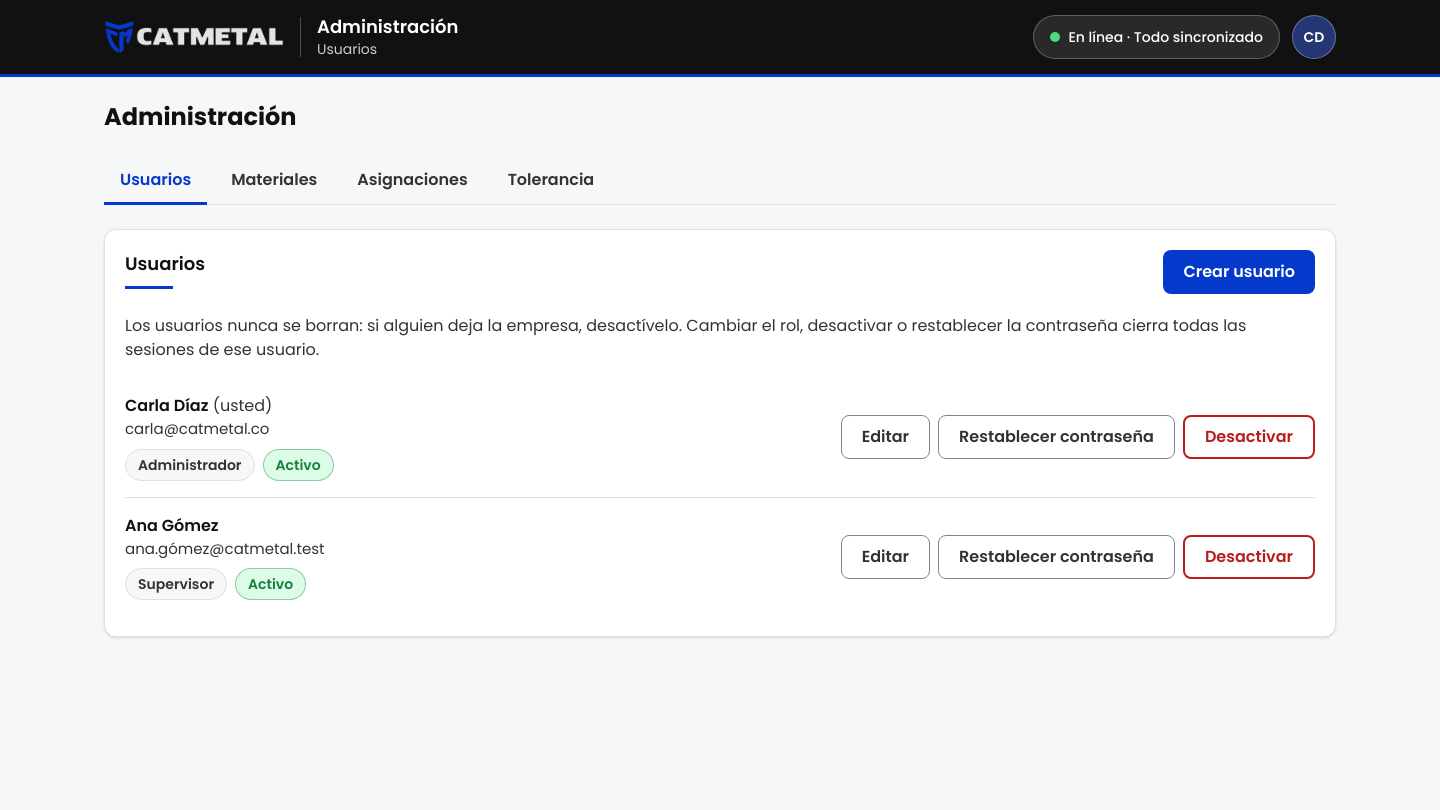
it: Administración · usuarios › desactivar pide confirmación, avisa que cierra sus sesiones y se puede cancelar
The image size is (1440, 810).
Step 1. Click the button with aria-label "Desactivar a Ana Gómez" → click(1249, 557), box [1183,535,1315,579]
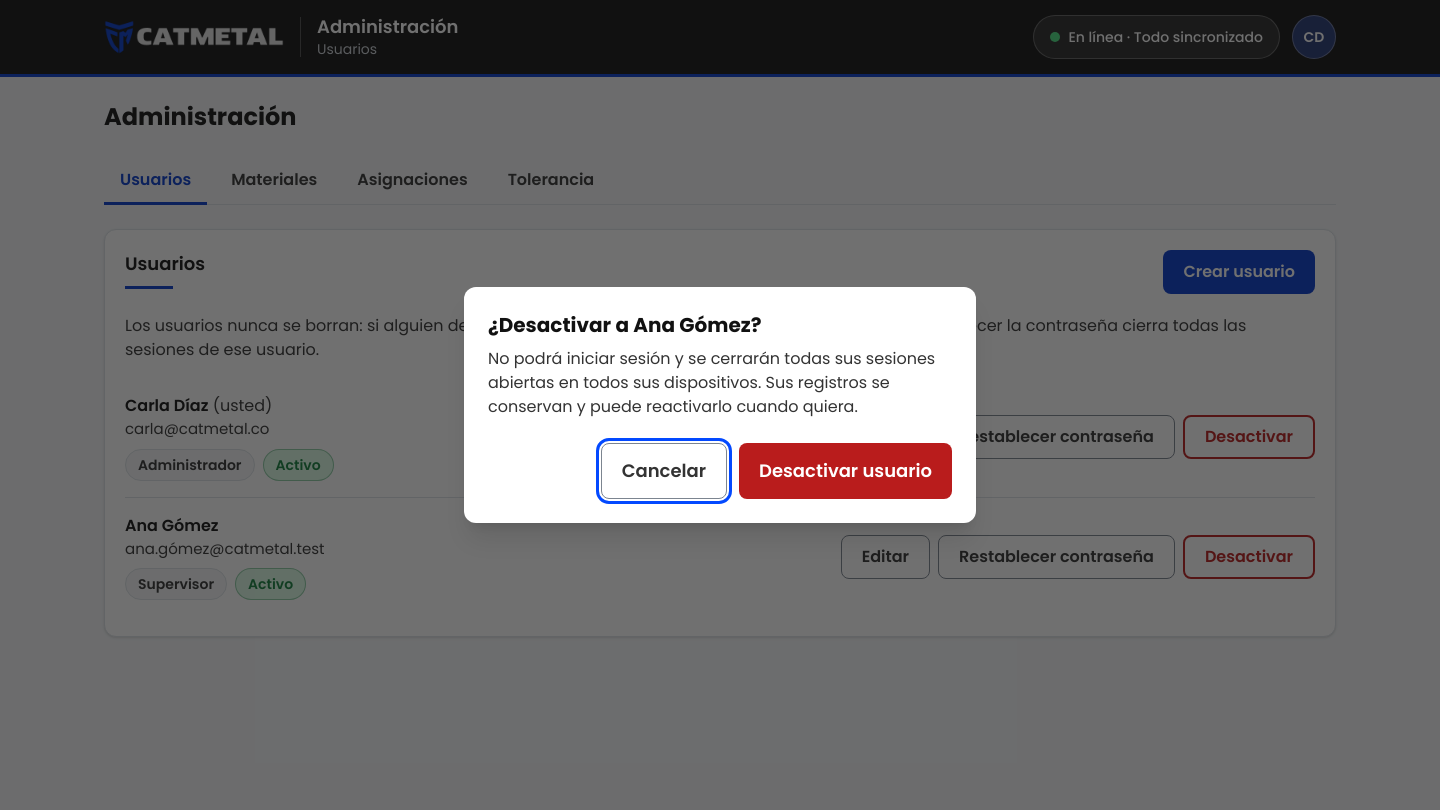
Result: the dialog "¿Desactivar a Ana Gómez?" shows "se cerrarán todas sus sesiones abiertas" at [488,347,935,418]
Step 2. Click the button "Cancelar" → click(664, 471), box [601,443,727,499]
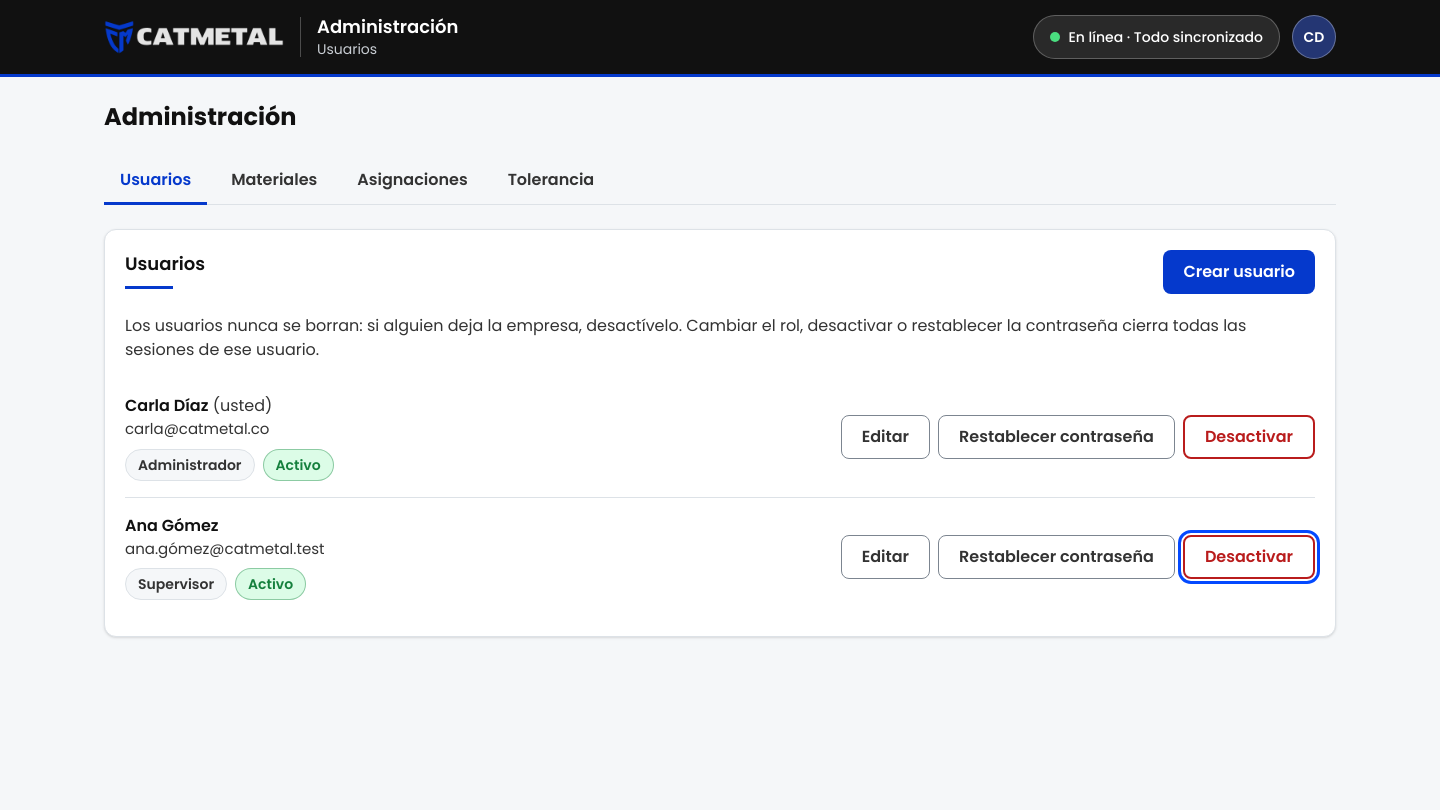
Step 3. Click the button with aria-label "Desactivar a Ana Gómez" → click(1249, 557), box [1183,535,1315,579]
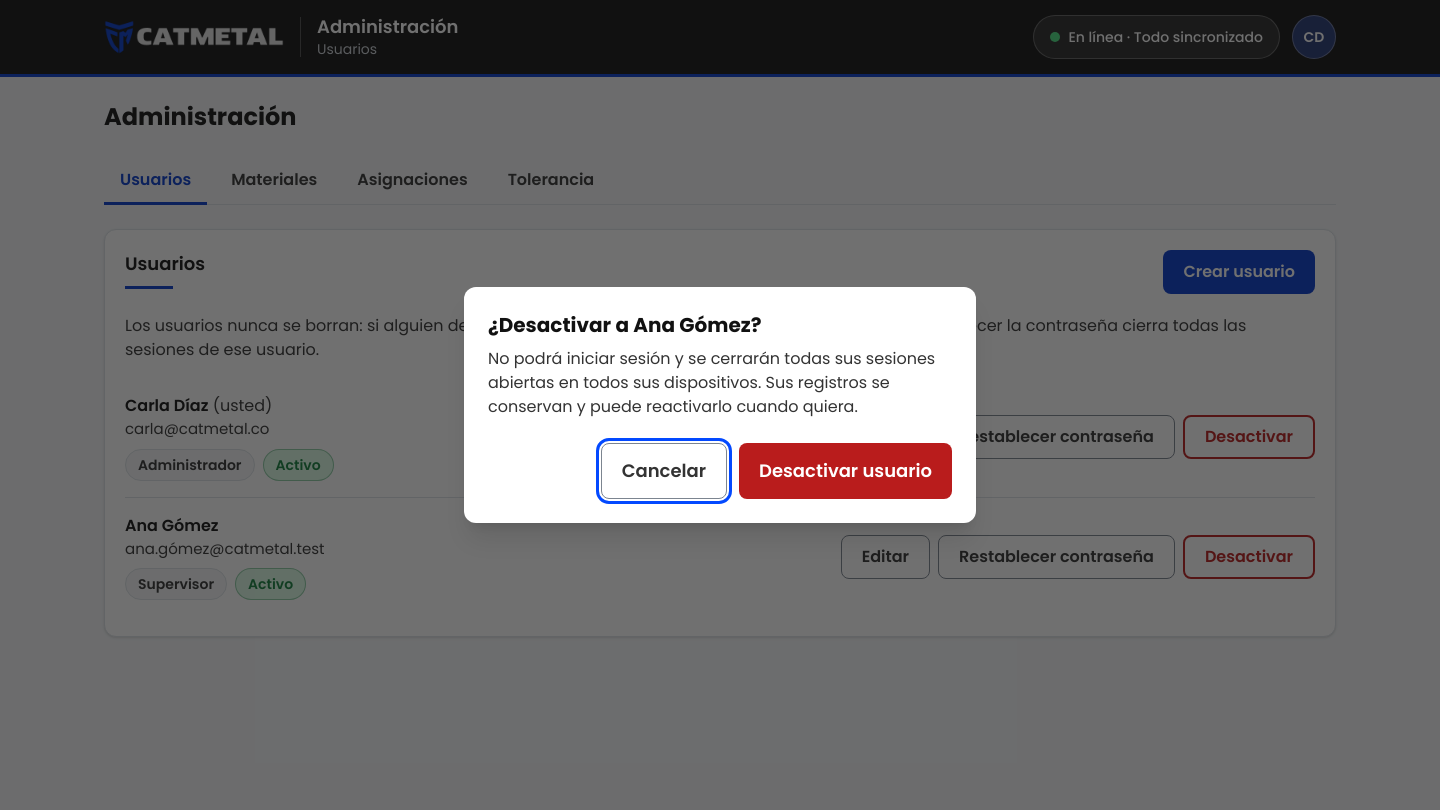
Step 4. Click the button "Desactivar usuario" → click(846, 471), box [739,443,952,499]
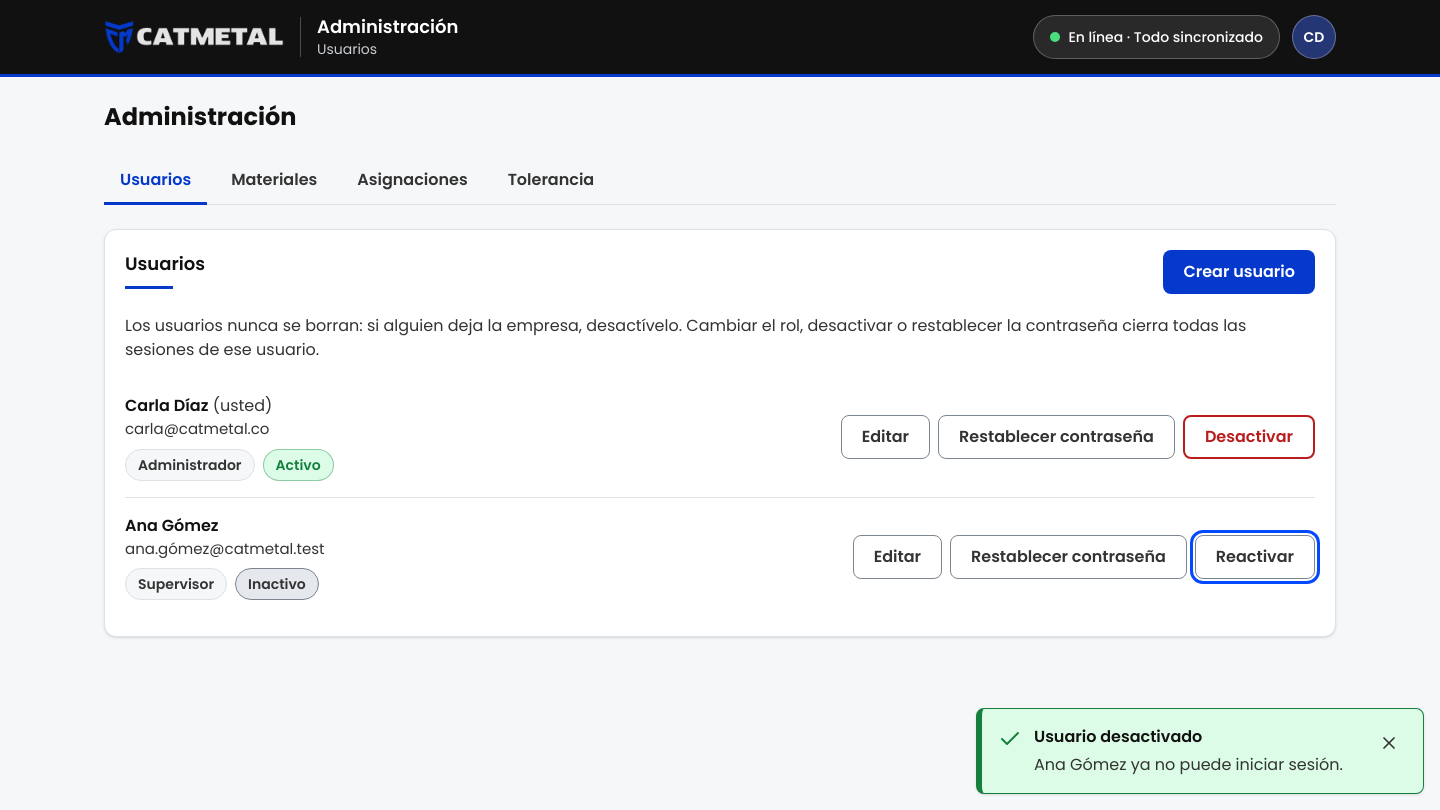
Result: the text "Usuario desactivado" is shown at [1033,724,1202,748]
Result: the button with aria-label "Reactivar a Ana Gómez" is shown at [1195,535,1315,579]
